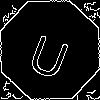U: (25, 25, 76, 81)
